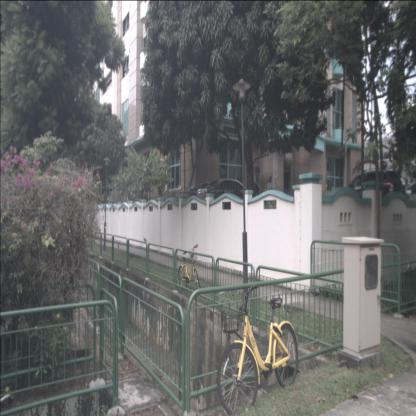vehicle-bicycle: (216, 284, 299, 416), (177, 244, 204, 293)
vehicle-car: (343, 171, 406, 214), (196, 178, 252, 210), (179, 182, 226, 211)
